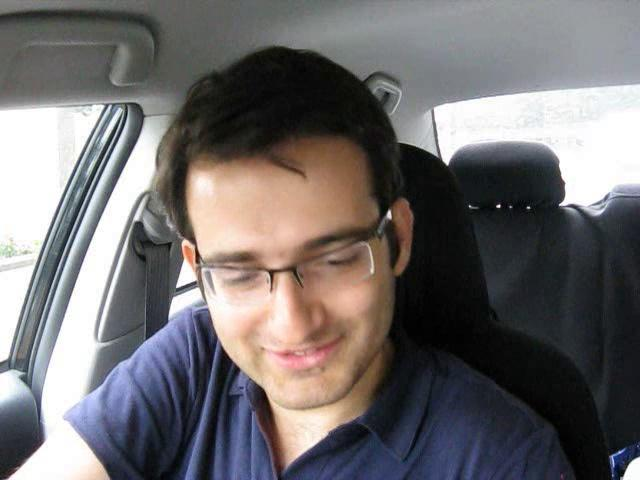close_eyeL: (208, 253, 268, 298)
close_eyeR: (300, 236, 385, 289)
no_yawn: (240, 323, 368, 385)
